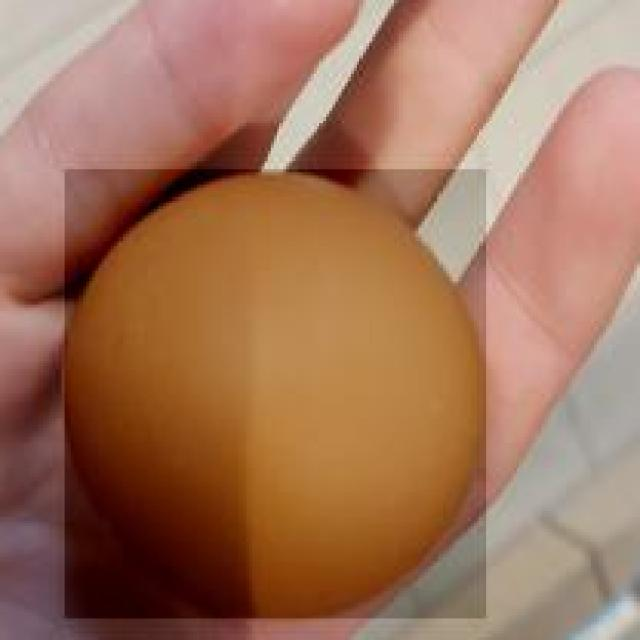egg: (62, 169, 486, 622)
